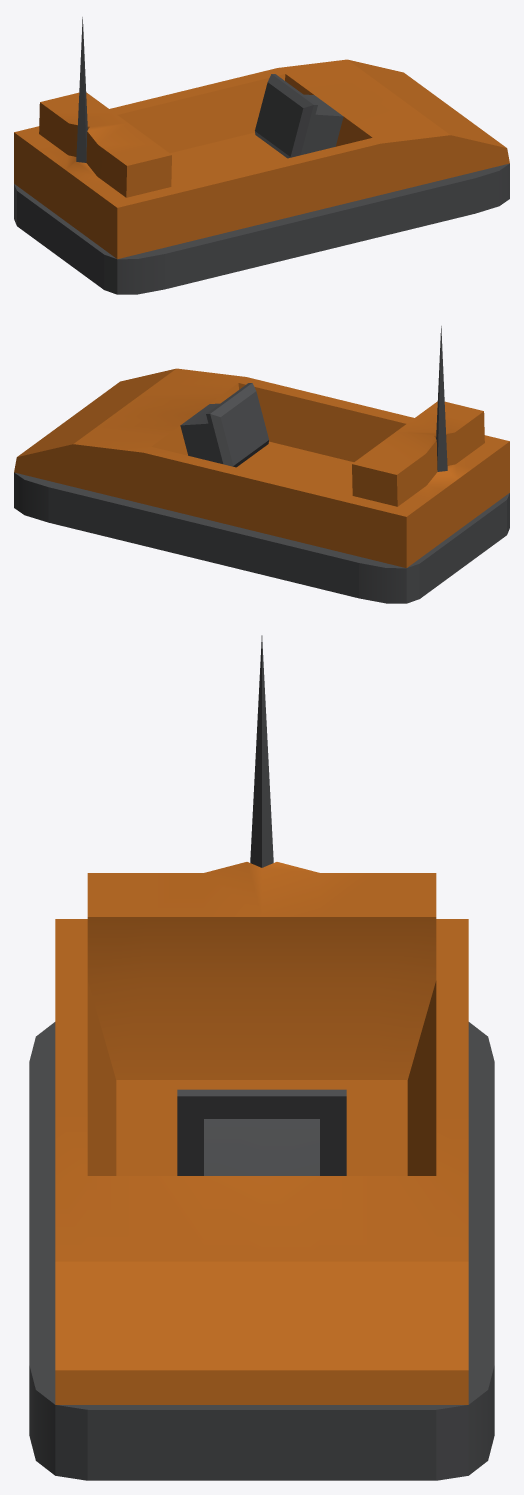
The model's file is Dodgem Textured.FBX.
3 renders of one model, top to bottom at view 1: azimuth 30°, elevation 25°; view 2: azimuth 150°, elevation 25°; view 3: azimuth 270°, elevation 25°, orthographic. The views are drawn at different scales.
Visible parts, largest first — view 1: Dodgem; view 2: Dodgem; view 3: Dodgem.
Part boxes in pixels (x1,y1,x2,y2): Dodgem: (14, 17, 509, 294); Dodgem: (14, 326, 509, 603); Dodgem: (29, 635, 494, 1480).
Bounding box in the file's own units: 40 × 22.63 × 20.
Materials: 2 (2 with a texture image).
